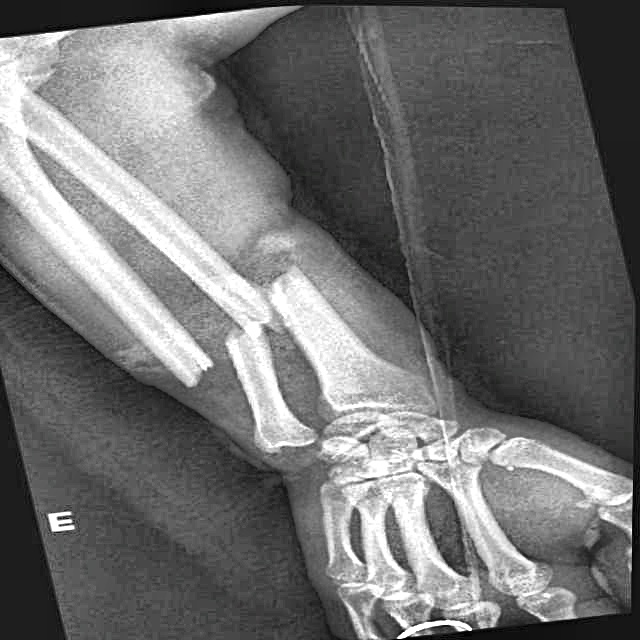Transverse: (210, 243, 330, 342), (144, 311, 280, 396)
